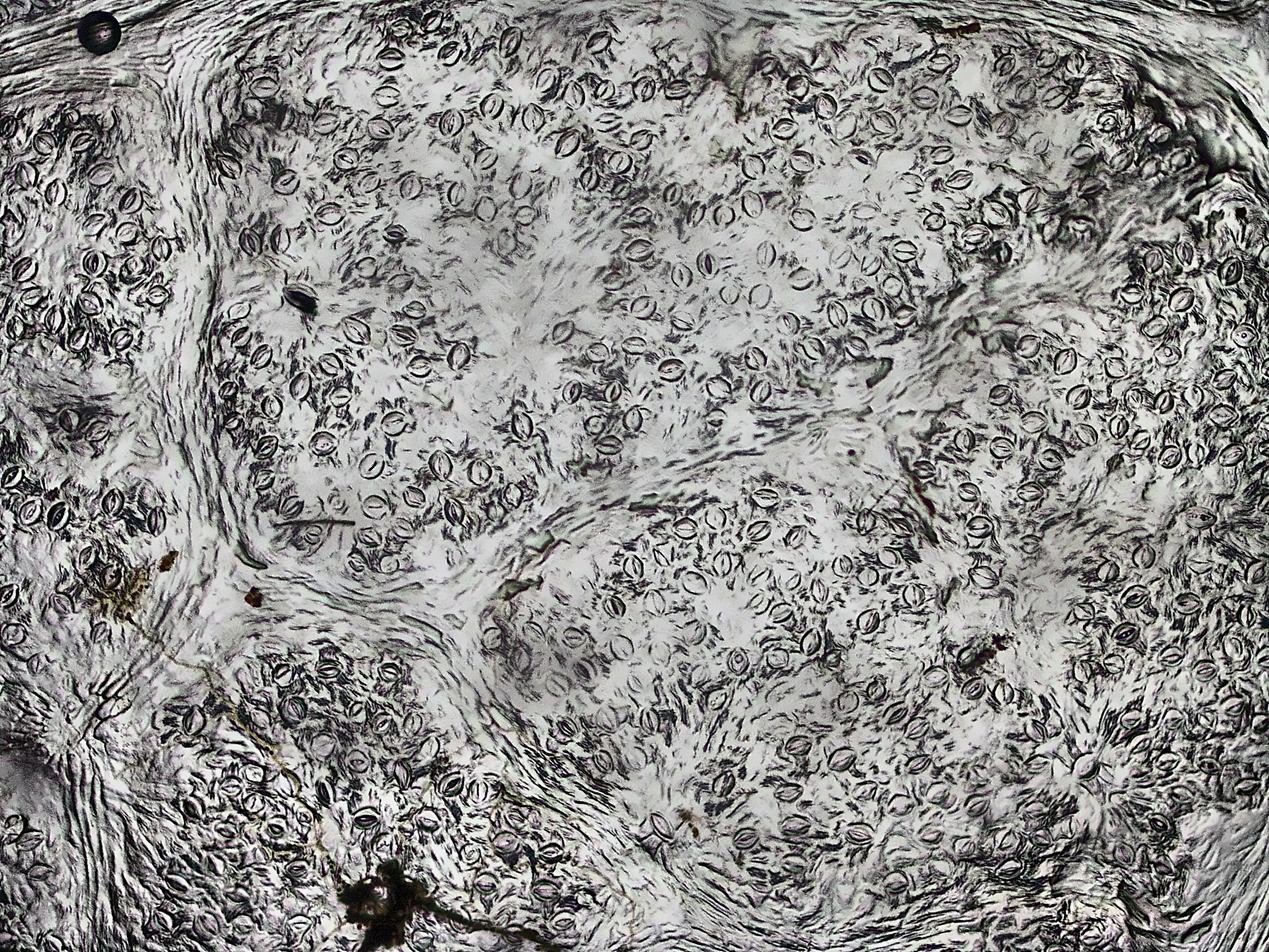stomata: (281, 283, 318, 309), (340, 316, 370, 345), (1107, 145, 1136, 174), (1041, 84, 1073, 110), (271, 168, 301, 195), (238, 228, 264, 259), (248, 77, 283, 100), (649, 812, 676, 841), (498, 26, 521, 60), (1073, 751, 1099, 781), (561, 78, 586, 109), (309, 430, 340, 455), (428, 450, 453, 481), (983, 200, 1014, 225), (624, 238, 656, 262), (1065, 382, 1092, 410), (595, 704, 621, 733), (585, 30, 615, 55), (181, 706, 206, 736), (289, 371, 313, 402), (828, 745, 855, 772), (438, 109, 464, 137), (871, 110, 899, 136), (628, 294, 657, 319), (657, 357, 686, 382), (963, 793, 992, 818), (83, 248, 107, 278), (867, 68, 897, 92), (696, 249, 720, 279), (895, 172, 925, 196), (1154, 343, 1184, 367), (1120, 584, 1150, 608), (314, 203, 345, 226), (826, 298, 849, 329), (1217, 444, 1248, 467), (945, 105, 977, 127), (994, 859, 1026, 881), (1172, 591, 1204, 613), (992, 110, 1017, 138), (1168, 286, 1196, 311), (436, 771, 464, 796), (1016, 184, 1040, 213), (1219, 258, 1243, 287), (1053, 347, 1077, 376), (1185, 507, 1218, 528), (74, 290, 104, 313), (49, 501, 71, 532), (1209, 405, 1240, 427), (532, 881, 563, 903), (631, 77, 657, 103), (790, 206, 817, 231), (523, 105, 547, 133), (911, 86, 940, 109), (491, 831, 520, 854), (269, 225, 291, 255), (512, 411, 534, 441), (1019, 411, 1049, 433), (886, 794, 916, 816), (375, 49, 406, 70), (969, 566, 1000, 587), (216, 154, 242, 179), (356, 453, 383, 477), (846, 337, 873, 361), (196, 911, 220, 938), (642, 589, 666, 616), (11, 257, 39, 280), (19, 497, 42, 525), (401, 173, 424, 201), (467, 457, 490, 485), (742, 153, 765, 181), (834, 112, 857, 140), (1141, 315, 1169, 338), (1232, 323, 1260, 346), (1075, 179, 1107, 199), (103, 487, 125, 516), (367, 118, 396, 140), (496, 228, 518, 257), (1069, 145, 1098, 167), (881, 702, 910, 724), (152, 234, 173, 264), (450, 903, 471, 933), (1190, 661, 1220, 682), (119, 188, 143, 214), (363, 495, 387, 521), (892, 238, 918, 262), (851, 146, 875, 172), (610, 634, 634, 660), (350, 808, 381, 828), (46, 178, 68, 206), (29, 861, 57, 883), (275, 103, 297, 131), (480, 91, 502, 119), (313, 779, 335, 807), (548, 910, 576, 932), (775, 781, 803, 803), (924, 782, 952, 804), (966, 515, 994, 537), (1112, 622, 1140, 644), (1016, 480, 1045, 501), (1017, 532, 1046, 553), (44, 304, 63, 336), (780, 816, 812, 835), (334, 147, 359, 171), (472, 198, 497, 222), (255, 435, 279, 460), (319, 352, 344, 376), (382, 411, 406, 436), (1104, 354, 1129, 378), (683, 570, 707, 595), (928, 857, 953, 881), (993, 825, 1017, 850), (952, 428, 976, 453), (1132, 543, 1156, 568), (436, 43, 462, 66), (609, 150, 632, 176), (650, 641, 673, 667), (556, 130, 578, 157), (471, 146, 498, 168), (892, 305, 919, 327), (1043, 212, 1061, 245), (539, 841, 566, 863), (858, 608, 880, 635), (855, 509, 877, 536), (919, 823, 946, 845), (962, 224, 993, 243), (374, 86, 402, 107), (449, 342, 470, 370), (850, 780, 878, 801), (742, 188, 762, 217), (752, 489, 781, 509), (904, 719, 933, 739), (1028, 828, 1057, 848), (94, 107, 118, 131), (0, 465, 24, 489), (389, 516, 413, 540), (1017, 334, 1041, 358), (575, 657, 599, 681), (602, 594, 626, 618), (961, 677, 985, 701), (114, 221, 139, 244), (789, 268, 814, 291), (672, 308, 697, 331), (746, 346, 769, 371), (802, 336, 827, 359), (545, 673, 570, 696), (623, 553, 646, 578), (746, 519, 771, 542), (682, 619, 705, 644), (990, 437, 1015, 460), (1040, 448, 1065, 471), (1159, 645, 1184, 668), (70, 132, 96, 154), (419, 10, 445, 32), (666, 78, 692, 100), (407, 355, 433, 377), (310, 734, 336, 756), (882, 871, 908, 893), (1126, 732, 1152, 754), (445, 496, 464, 526), (1119, 285, 1149, 304), (845, 825, 875, 844), (232, 123, 253, 150), (621, 336, 648, 357), (1211, 368, 1238, 389), (389, 325, 417, 345), (685, 199, 705, 227), (595, 435, 623, 455), (315, 659, 343, 679), (904, 754, 932, 774), (536, 63, 554, 94), (851, 201, 882, 219), (993, 53, 1017, 76), (1150, 122, 1173, 146), (271, 662, 295, 685), (784, 525, 808, 548), (903, 584, 926, 608), (890, 518, 919, 537), (814, 94, 836, 119), (706, 377, 731, 399), (1174, 241, 1196, 266), (275, 769, 297, 794), (151, 908, 173, 933), (1095, 559, 1120, 581), (101, 564, 122, 590), (510, 172, 531, 198), (773, 118, 799, 139), (671, 262, 692, 288), (1016, 78, 1037, 104), (727, 648, 748, 674), (800, 628, 821, 654), (952, 837, 978, 858), (1237, 602, 1258, 628), (1072, 657, 1093, 683), (88, 164, 115, 184), (14, 833, 44, 851), (579, 165, 599, 192), (1153, 752, 1183, 770), (313, 114, 341, 133), (505, 481, 524, 509), (757, 241, 776, 269), (712, 549, 731, 577), (124, 253, 147, 276), (1026, 133, 1049, 156), (2, 625, 26, 647), (593, 79, 617, 101), (359, 171, 381, 195), (714, 203, 736, 227), (552, 321, 574, 345), (862, 297, 884, 321), (460, 842, 482, 866), (703, 687, 725, 711), (60, 407, 81, 432), (448, 181, 469, 206), (250, 344, 271, 369), (586, 342, 611, 363), (750, 284, 771, 309), (776, 312, 797, 337), (989, 385, 1014, 406), (1157, 446, 1182, 467), (832, 554, 853, 579), (1114, 841, 1135, 866), (17, 163, 37, 189), (69, 326, 89, 352), (1143, 248, 1163, 274), (165, 872, 191, 892), (713, 771, 733, 797), (785, 736, 811, 756), (922, 666, 948, 686), (993, 680, 1013, 706), (596, 112, 623, 131), (1069, 212, 1096, 231), (1169, 785, 1196, 804), (150, 505, 166, 537), (1075, 423, 1098, 445), (179, 798, 201, 821), (372, 833, 395, 855), (504, 923, 527, 945), (705, 506, 727, 529), (1223, 635, 1245, 658), (20, 287, 48, 305), (405, 485, 426, 509), (930, 53, 954, 74), (415, 808, 439, 829), (475, 872, 499, 893), (480, 625, 501, 649), (674, 516, 698, 537), (783, 851, 807, 872), (748, 591, 769, 615), (838, 690, 859, 714), (1148, 812, 1172, 833), (1246, 560, 1267, 584), (146, 285, 171, 305), (86, 422, 111, 442), (389, 18, 414, 38), (486, 499, 506, 524), (514, 206, 539, 226), (751, 379, 771, 404), (863, 251, 883, 276), (1065, 51, 1085, 76), (1169, 149, 1189, 174), (1109, 414, 1129, 439), (403, 712, 423, 737), (510, 646, 530, 671), (1026, 718, 1046, 743), (1102, 654, 1127, 674), (1197, 707, 1217, 732), (0, 115, 19, 141), (641, 708, 660, 734), (630, 127, 652, 149), (792, 151, 814, 173), (203, 853, 225, 875), (355, 257, 378, 278), (280, 495, 301, 518), (830, 245, 851, 268), (1097, 110, 1118, 133), (410, 928, 433, 949), (593, 750, 614, 773), (735, 827, 758, 848), (877, 547, 900, 568), (958, 480, 981, 501), (990, 240, 1011, 263), (328, 387, 352, 407), (1154, 389, 1174, 413), (346, 751, 370, 771), (627, 747, 647, 771), (522, 622, 546, 642), (562, 628, 586, 648), (770, 603, 794, 623), (1152, 856, 1176, 876), (1120, 710, 1144, 730), (948, 170, 976, 187), (623, 408, 642, 433), (1141, 156, 1160, 181), (468, 778, 487, 803), (810, 579, 829, 604), (51, 594, 73, 615), (261, 396, 283, 417), (1182, 385, 1203, 407), (250, 708, 272, 729), (243, 793, 265, 814), (789, 75, 809, 98), (924, 211, 947, 231), (883, 275, 903, 298), (1234, 779, 1261, 796), (0, 584, 19, 608), (664, 182, 683, 206), (384, 225, 408, 244), (404, 300, 428, 319), (421, 735, 440, 759), (766, 650, 790, 669), (703, 409, 728, 427), (377, 663, 402, 681), (1197, 756, 1222, 774), (4, 814, 21, 840), (227, 302, 253, 319), (4, 317, 25, 338), (1036, 48, 1057, 69), (557, 715, 578, 736), (859, 566, 880, 587), (958, 646, 979, 667), (1161, 708, 1182, 729), (112, 328, 132, 350), (78, 547, 98, 569), (610, 179, 632, 199), (390, 273, 412, 293), (1186, 443, 1206, 465), (287, 699, 307, 721), (779, 569, 799, 591), (90, 621, 109, 644), (603, 381, 622, 404), (747, 566, 770, 585), (30, 651, 48, 675), (562, 380, 580, 404), (1025, 801, 1049, 819), (231, 326, 251, 347), (604, 271, 625, 291), (372, 713, 392, 734), (653, 546, 674, 566), (914, 458, 935, 478), (253, 470, 275, 489), (1074, 601, 1096, 620), (395, 762, 411, 788), (82, 216, 105, 234), (630, 206, 653, 224), (582, 415, 605, 433), (225, 885, 248, 903), (188, 767, 211, 785), (288, 915, 312, 932), (929, 146, 954, 162), (285, 860, 310, 876), (34, 134, 56, 152), (233, 915, 255, 933), (1027, 755, 1049, 773), (360, 528, 383, 545), (242, 100, 262, 119), (1123, 389, 1143, 408), (245, 763, 265, 782), (689, 666, 708, 686), (222, 411, 243, 429), (758, 56, 779, 74), (221, 777, 242, 795), (1061, 817, 1079, 838), (1222, 696, 1244, 713), (216, 823, 239, 839), (219, 381, 238, 400), (303, 525, 322, 544), (347, 551, 365, 571), (721, 283, 739, 303), (1131, 430, 1151, 448), (507, 809, 527, 827), (823, 648, 841, 668), (1082, 926, 1102, 944), (1250, 712, 1268, 732), (41, 935, 62, 952), (349, 701, 366, 722), (751, 876, 773, 892), (381, 555, 400, 573), (628, 672, 646, 691), (867, 680, 885, 699), (63, 110, 80, 127), (254, 846, 272, 862), (268, 821, 287, 836), (297, 810, 313, 825), (1044, 943, 1066, 952)
